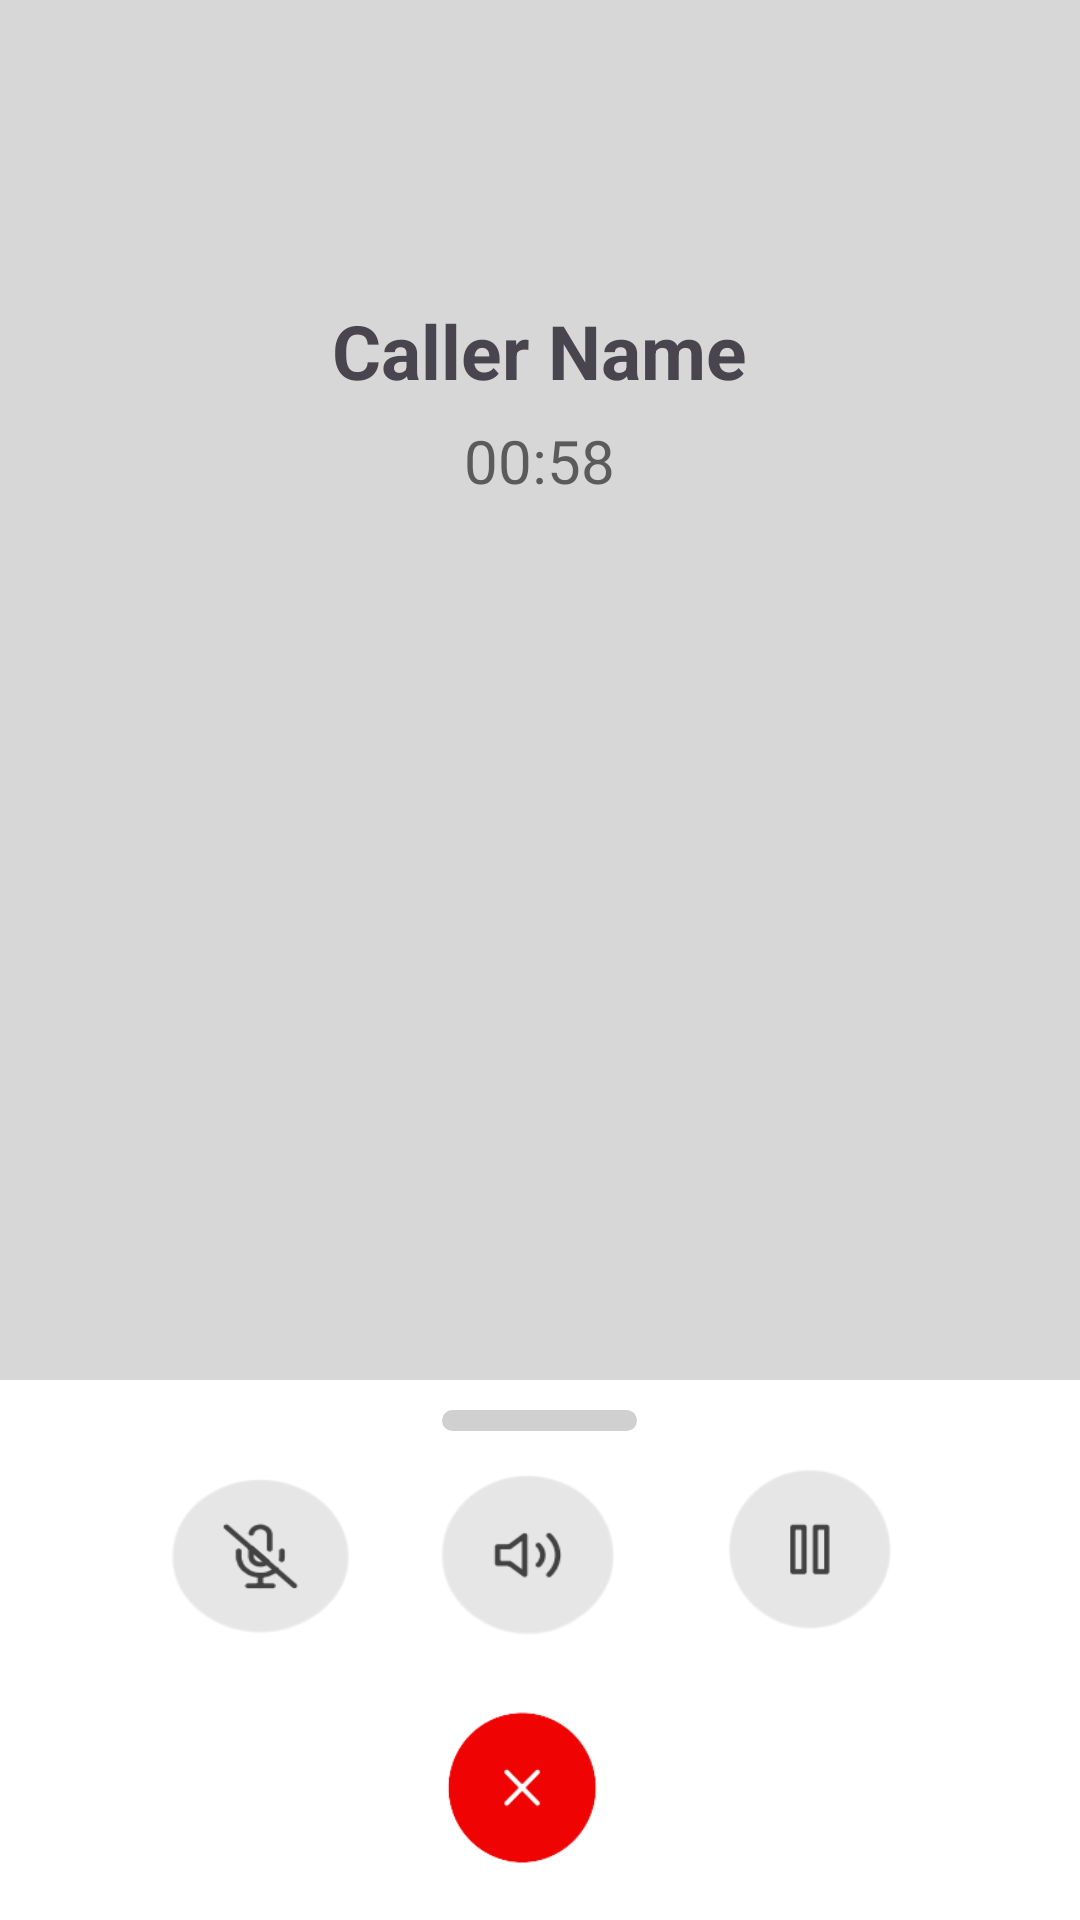

Point at icon controls on the screen. Image size 1080px x 1920px, points as [x,y].
micoff: [260,1556]
pause: [809,1549]
redcancel: [522,1787]
speaker: [527,1555]
